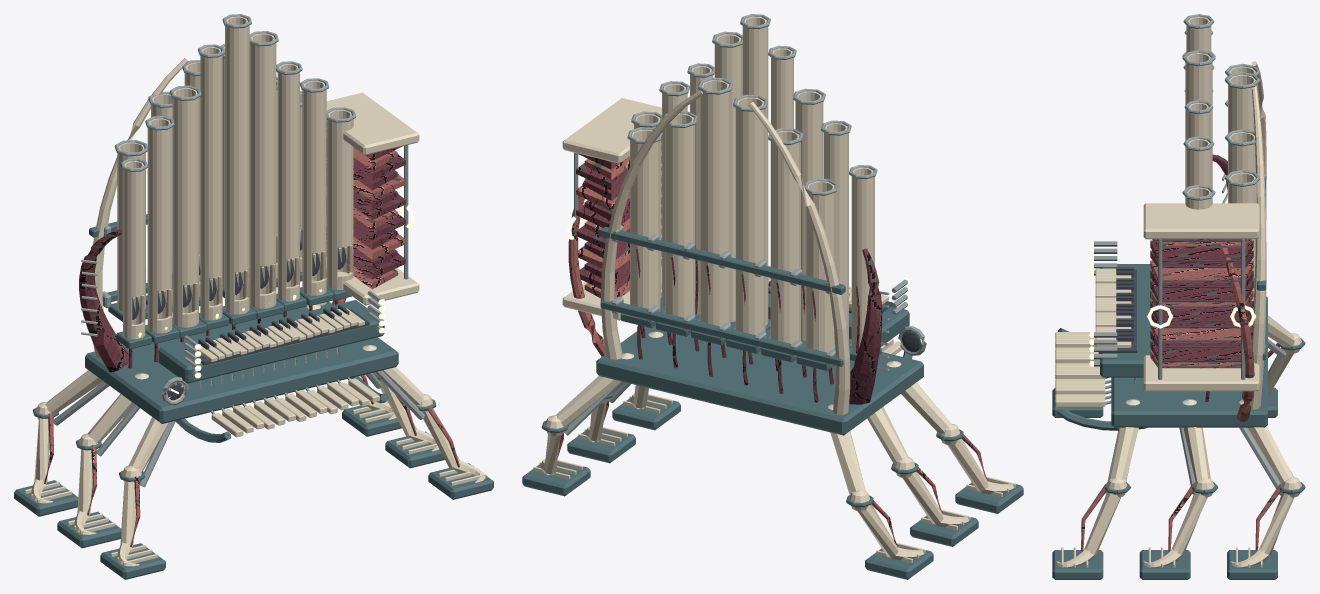
The model's file is walking_bone_organ.glb.
3 views of the same model, side by side, from view 1: azimuth 30°, elevation 25°; view 2: azimuth 150°, elevation 25°; view 3: azimuth 270°, elevation 25° (orthographic). The views are drawn at different scales.
Visible parts, largest first — view 1: walking_bone_organ_warm, walking_bone_organ_petrol, walking_bone_organ_worn, walking_bone_organ_bruised, walking_bone_organ_suture, walking_bone_organ_deep, walking_bone_organ_sick; view 2: walking_bone_organ_warm, walking_bone_organ_petrol, walking_bone_organ_bruised, walking_bone_organ_worn, walking_bone_organ_suture; view 3: walking_bone_organ_warm, walking_bone_organ_petrol, walking_bone_organ_bruised, walking_bone_organ_suture, walking_bone_organ_worn, walking_bone_organ_deep, walking_bone_organ_sick.
Part boxes in pixels (bbox=[...]): walking_bone_organ_warm: bbox=[24, 16, 486, 566]; walking_bone_organ_petrol: bbox=[14, 214, 493, 579]; walking_bone_organ_worn: bbox=[53, 14, 424, 487]; walking_bone_organ_bruised: bbox=[79, 138, 405, 372]; walking_bone_organ_suture: bbox=[43, 128, 459, 547]; walking_bone_organ_deep: bbox=[132, 154, 398, 400]; walking_bone_organ_sick: bbox=[138, 205, 414, 393]; walking_bone_organ_warm: bbox=[533, 16, 1015, 562]; walking_bone_organ_petrol: bbox=[522, 226, 1023, 579]; walking_bone_organ_bruised: bbox=[576, 144, 882, 404]; walking_bone_organ_worn: bbox=[564, 14, 926, 435]; walking_bone_organ_suture: bbox=[557, 137, 987, 546]; walking_bone_organ_warm: bbox=[1055, 16, 1301, 567]; walking_bone_organ_petrol: bbox=[1052, 176, 1305, 579]; walking_bone_organ_bruised: bbox=[1150, 154, 1253, 401]; walking_bone_organ_suture: bbox=[1081, 239, 1282, 551]; walking_bone_organ_worn: bbox=[1094, 14, 1286, 495]; walking_bone_organ_deep: bbox=[1098, 240, 1241, 367]; walking_bone_organ_sick: bbox=[1089, 241, 1255, 366].
Size of the model in its own units: 7.06 by 8.43 by 4.12.
7 materials, 2 textured.
